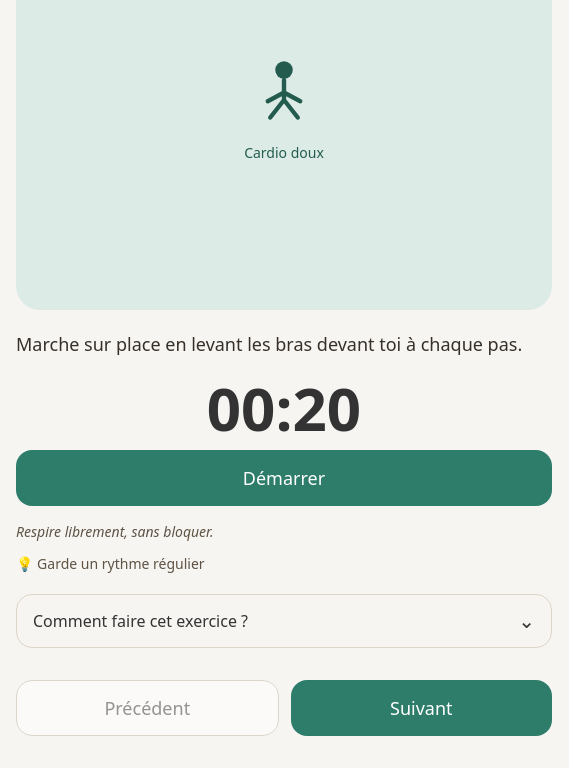
Test: WorkoutPlayerPage progression › shows which exercise you're on, and advances when you move to the next one
The image size is (569, 768).
(page scrolled)
Click the button "Suivant" at x=421, y=708, box [291,680,552,736]
(page scrolled)
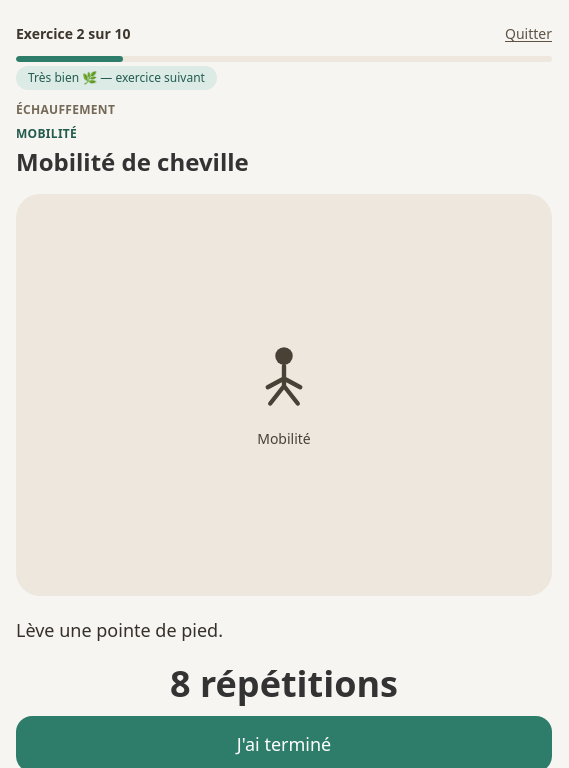
Check: the text "Exercice 2 sur 10" is shown, box [16,24,130,44]
